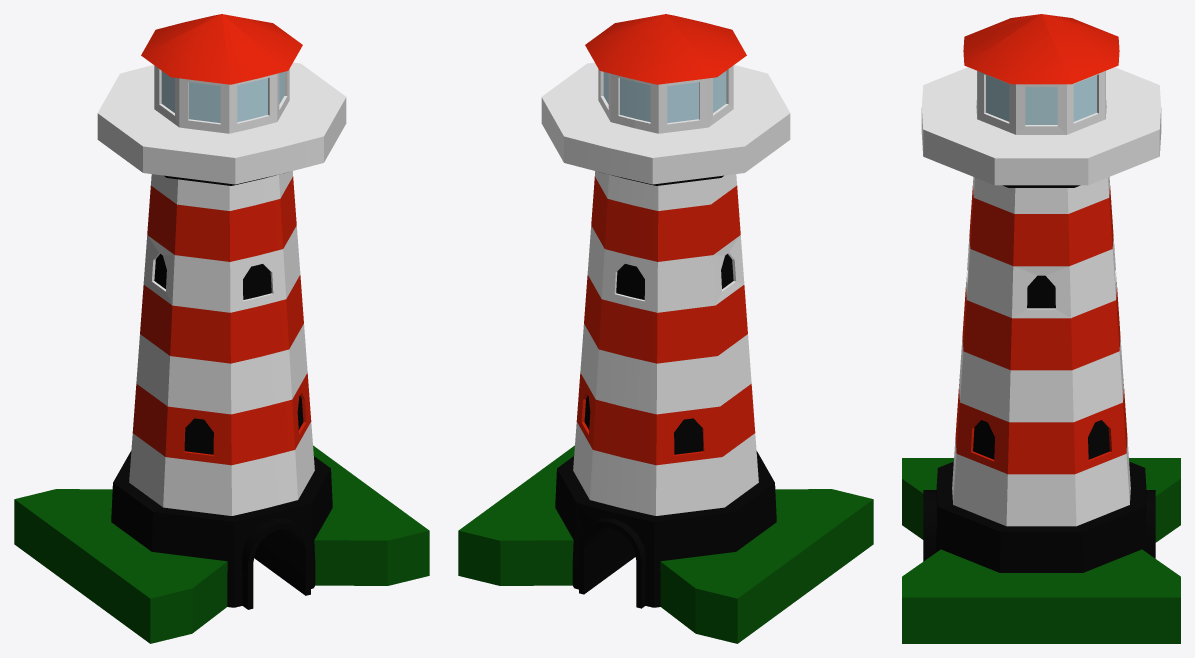
File: LightHouse.FBX
3 views of the same model, side by side, from view 1: azimuth 30°, elevation 25°; view 2: azimuth 150°, elevation 25°; view 3: azimuth 270°, elevation 25° (orthographic). The views are drawn at different scales.
Visible parts, largest first — view 1: Lighthouse; view 2: Lighthouse; view 3: Lighthouse.
Part boxes in pixels (<box>): Lighthouse: <box>14,14,429,643</box>; Lighthouse: <box>458,14,873,643</box>; Lighthouse: <box>902,14,1180,643</box>.
Size of the model in its own units: 533 by 997 by 450.
